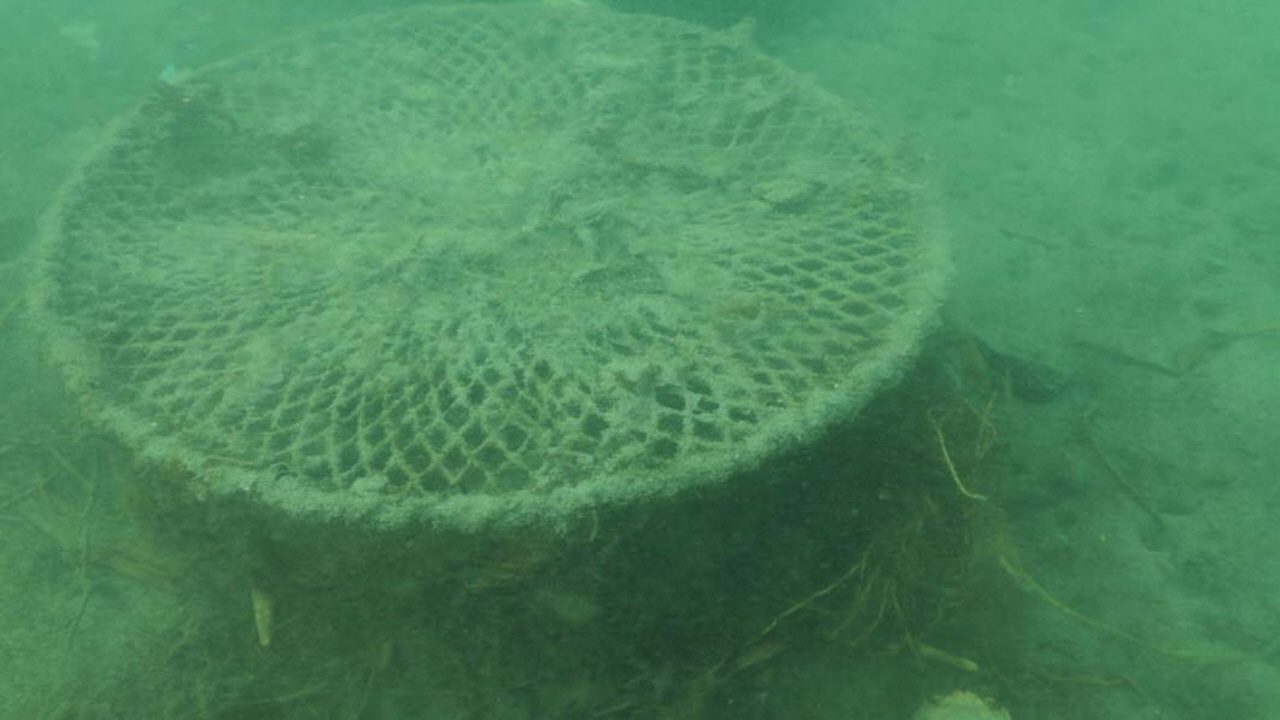circular fish trap: (30, 0, 941, 526)
